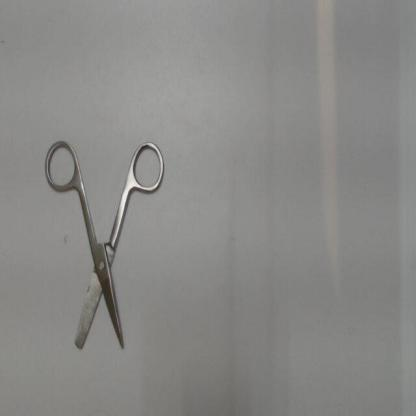Dressing Scissors: (36, 129, 174, 365)
